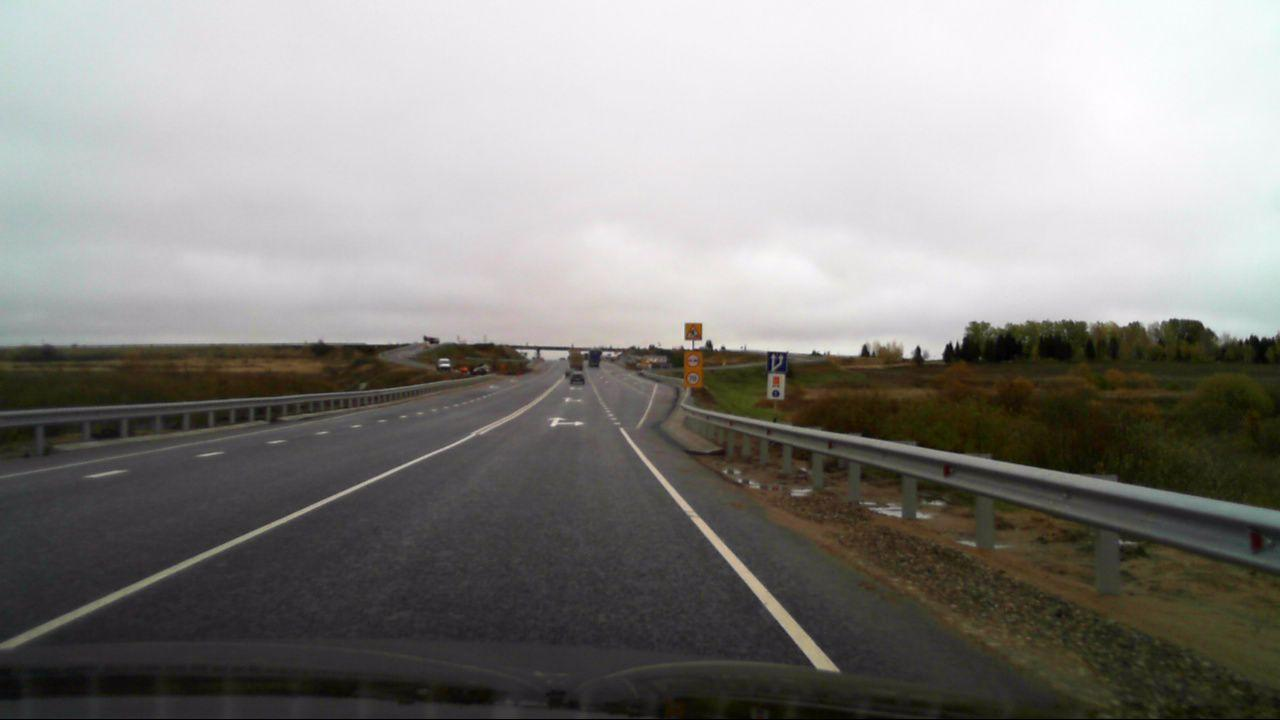1_25: (685, 323, 702, 339)
3_20: (685, 352, 700, 368)
3_24: (686, 372, 701, 385)
4_8_1: (767, 373, 784, 399)
5_15_3: (767, 351, 788, 373)
